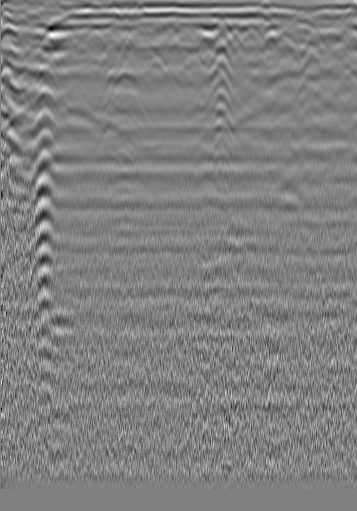가스: (103, 168, 152, 199)
상수: (22, 37, 42, 57)
오수: (302, 25, 322, 45)
우수: (155, 20, 175, 40)
